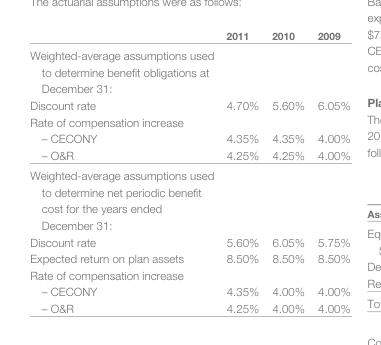table: (29, 28, 349, 314)
table column: (29, 28, 204, 314), (204, 28, 264, 314), (264, 28, 310, 314), (310, 28, 349, 314)
table column header: (29, 28, 349, 44)
table projected row header: (29, 164, 349, 232), (29, 44, 349, 96), (29, 112, 349, 129), (29, 266, 349, 282)
table row: (29, 164, 349, 232), (29, 44, 349, 96), (29, 146, 349, 164), (29, 112, 349, 129), (29, 129, 349, 146), (29, 232, 349, 249), (29, 249, 349, 266), (29, 282, 349, 299), (29, 28, 349, 44), (29, 96, 349, 112), (29, 266, 349, 282), (29, 299, 349, 314)
